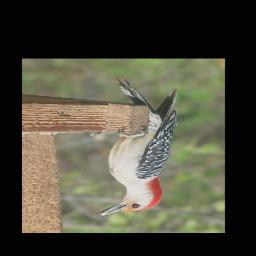Woodpecker: (94, 77, 177, 218)
